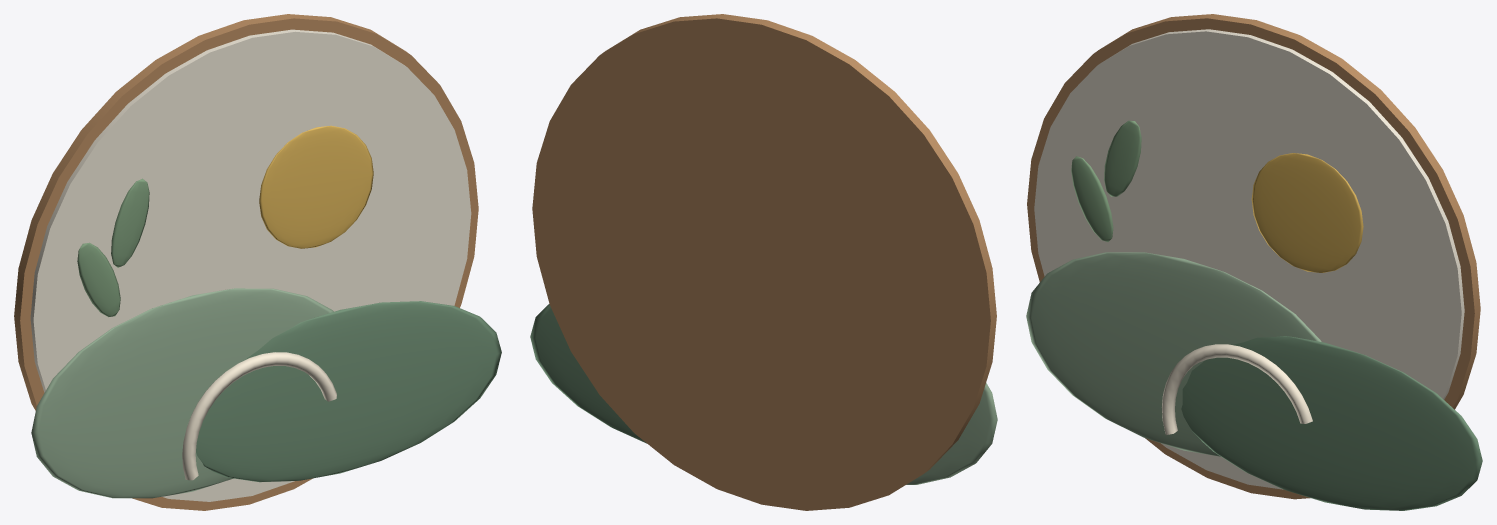
Rendered from art-hr-clearpath.glb.
The picture shows the model from 3 angles, left to right: view 1: azimuth 30°, elevation 25°; view 2: azimuth 150°, elevation 25°; view 3: azimuth 330°, elevation 25°; orthographic projection. The views are drawn at different scales.
Visible parts, largest first — view 1: art-hr-clearpath_m_efe8d8, art-hr-clearpath_m_6f8f74, art-hr-clearpath_m_93ad92, art-hr-clearpath_m_b98d62, art-hr-clearpath_m_e0b85c, art-hr-clearpath_m_7e9e7b, art-hr-clearpath_m_f4ead6; view 2: art-hr-clearpath_m_b98d62, art-hr-clearpath_m_6f8f74, art-hr-clearpath_m_93ad92; view 3: art-hr-clearpath_m_efe8d8, art-hr-clearpath_m_6f8f74, art-hr-clearpath_m_93ad92, art-hr-clearpath_m_b98d62, art-hr-clearpath_m_e0b85c, art-hr-clearpath_m_7e9e7b, art-hr-clearpath_m_f4ead6.
Part boxes in pixels (box(x1,y1,x2,y2)): art-hr-clearpath_m_efe8d8: box(30, 29, 471, 501); art-hr-clearpath_m_6f8f74: box(196, 301, 501, 482); art-hr-clearpath_m_93ad92: box(31, 288, 333, 498); art-hr-clearpath_m_b98d62: box(14, 14, 478, 510); art-hr-clearpath_m_e0b85c: box(259, 125, 373, 248); art-hr-clearpath_m_7e9e7b: box(77, 178, 149, 317); art-hr-clearpath_m_f4ead6: box(182, 352, 336, 480); art-hr-clearpath_m_b98d62: box(532, 14, 996, 510); art-hr-clearpath_m_6f8f74: box(530, 304, 646, 443); art-hr-clearpath_m_93ad92: box(906, 383, 997, 484); art-hr-clearpath_m_efe8d8: box(1034, 29, 1464, 489); art-hr-clearpath_m_6f8f74: box(1181, 336, 1482, 510); art-hr-clearpath_m_93ad92: box(1026, 252, 1321, 456); art-hr-clearpath_m_b98d62: box(1027, 14, 1480, 499); art-hr-clearpath_m_e0b85c: box(1251, 153, 1363, 272); art-hr-clearpath_m_7e9e7b: box(1071, 120, 1141, 241); art-hr-clearpath_m_f4ead6: box(1162, 344, 1312, 434).
Bounding box in the file's own units: 0.91 × 0.88 × 0.0714.
